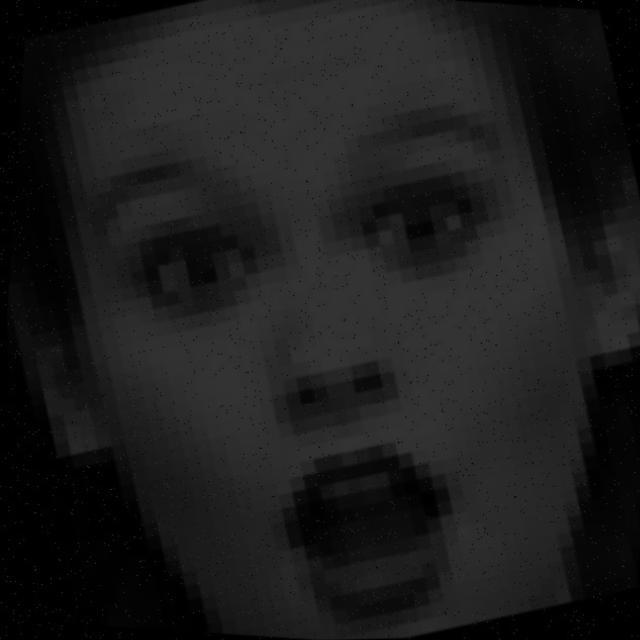Surprised: (55, 96, 585, 640)
